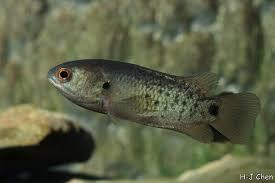Climbing Perch: (47, 58, 261, 147)
